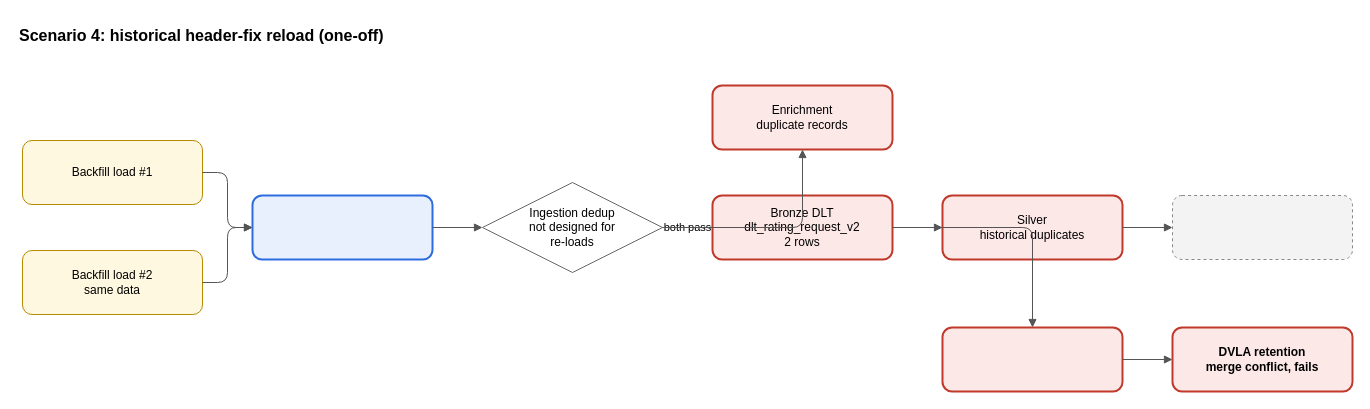
The diagram is 1370 pixels wide and 409 high, and some of its shapes have lost their labels. The centre of each missing label's shape, as x and y in pixels:
"dlt_rating_request_ dvla_removed_v2 2 rows" goes at point (1032, 359).
"EFST landing historical records" goes at point (342, 227).
"Gold to confirm" goes at point (1262, 227).
